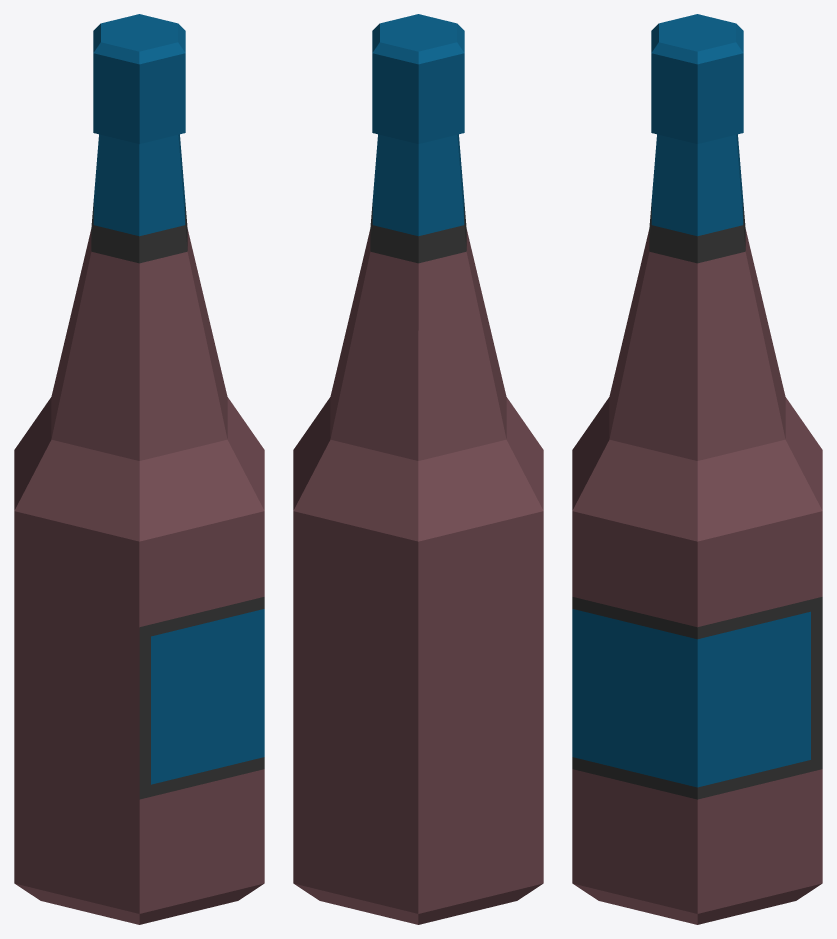
The model's file is model_bottle_04.fbx.
3 renders of one model, left to right at view 1: azimuth 30°, elevation 25°; view 2: azimuth 150°, elevation 25°; view 3: azimuth 270°, elevation 25°, orthographic.
Visible parts, largest first — view 1: model_bottle_04; view 2: model_bottle_04; view 3: model_bottle_04.
Part boxes in pixels (box(x1,y1,x2,y2)): model_bottle_04: box(14, 14, 264, 924); model_bottle_04: box(293, 14, 543, 924); model_bottle_04: box(572, 14, 822, 924).
Size of the model in its own units: 14.88 by 47.91 by 12.88.
1 material, 1 textured.
